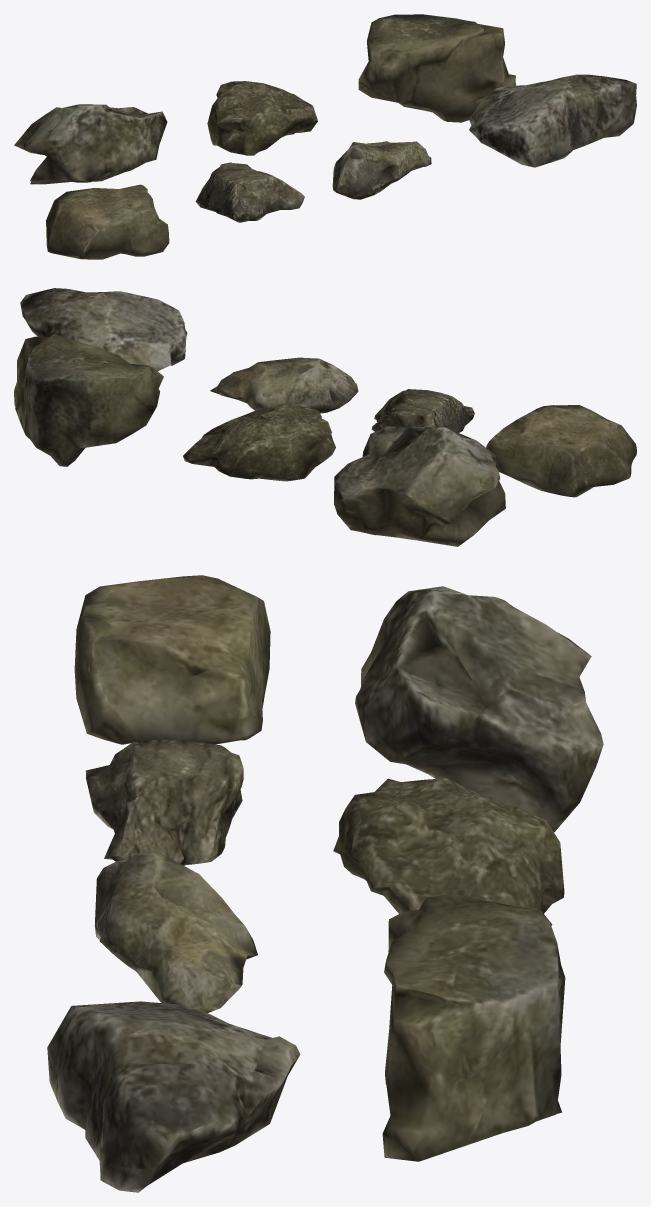
File: rock_moss_set_02.glb
3 views of the same model, one above another, from view 1: azimuth 30°, elevation 25°; view 2: azimuth 150°, elevation 25°; view 3: azimuth 270°, elevation 25° (orthographic). The views are drawn at different scales.
Parts seen in each view (by area): view 1: rock_moss_set_02_rock13, rock_moss_set_02_rock10, rock_moss_set_02_rock11, rock_moss_set_02_rock07, rock_moss_set_02_rock12, rock_moss_set_02_rock08, rock_moss_set_02_rock09; view 2: rock_moss_set_02_rock11, rock_moss_set_02_rock13, rock_moss_set_02_rock07, rock_moss_set_02_rock10, rock_moss_set_02_rock12, rock_moss_set_02_rock09, rock_moss_set_02_rock08; view 3: rock_moss_set_02_rock11, rock_moss_set_02_rock13, rock_moss_set_02_rock10, rock_moss_set_02_rock07, rock_moss_set_02_rock12, rock_moss_set_02_rock09, rock_moss_set_02_rock08.
Boxes of the visible parts, left/top/right/bottom form: rock_moss_set_02_rock13: left=358, top=14, right=515, bottom=122; rock_moss_set_02_rock10: left=469, top=74, right=636, bottom=167; rock_moss_set_02_rock11: left=14, top=104, right=167, bottom=184; rock_moss_set_02_rock07: left=46, top=184, right=169, bottom=259; rock_moss_set_02_rock12: left=207, top=81, right=317, bottom=155; rock_moss_set_02_rock08: left=195, top=162, right=304, bottom=222; rock_moss_set_02_rock09: left=332, top=141, right=431, bottom=199; rock_moss_set_02_rock11: left=334, top=426, right=505, bottom=546; rock_moss_set_02_rock13: left=14, top=334, right=163, bottom=466; rock_moss_set_02_rock07: left=486, top=405, right=636, bottom=497; rock_moss_set_02_rock10: left=20, top=288, right=187, bottom=371; rock_moss_set_02_rock12: left=183, top=404, right=335, bottom=481; rock_moss_set_02_rock09: left=210, top=357, right=358, bottom=413; rock_moss_set_02_rock08: left=371, top=389, right=474, bottom=432; rock_moss_set_02_rock11: left=355, top=586, right=603, bottom=832; rock_moss_set_02_rock13: left=382, top=894, right=565, bottom=1161; rock_moss_set_02_rock10: left=47, top=1001, right=300, bottom=1192; rock_moss_set_02_rock07: left=74, top=575, right=270, bottom=744; rock_moss_set_02_rock12: left=333, top=778, right=564, bottom=925; rock_moss_set_02_rock09: left=94, top=850, right=257, bottom=1012; rock_moss_set_02_rock08: left=85, top=739, right=243, bottom=865.
Size of the model in its own units: 8.26 by 1.36 by 3.41.
Materials: 1 (1 with a texture image).
